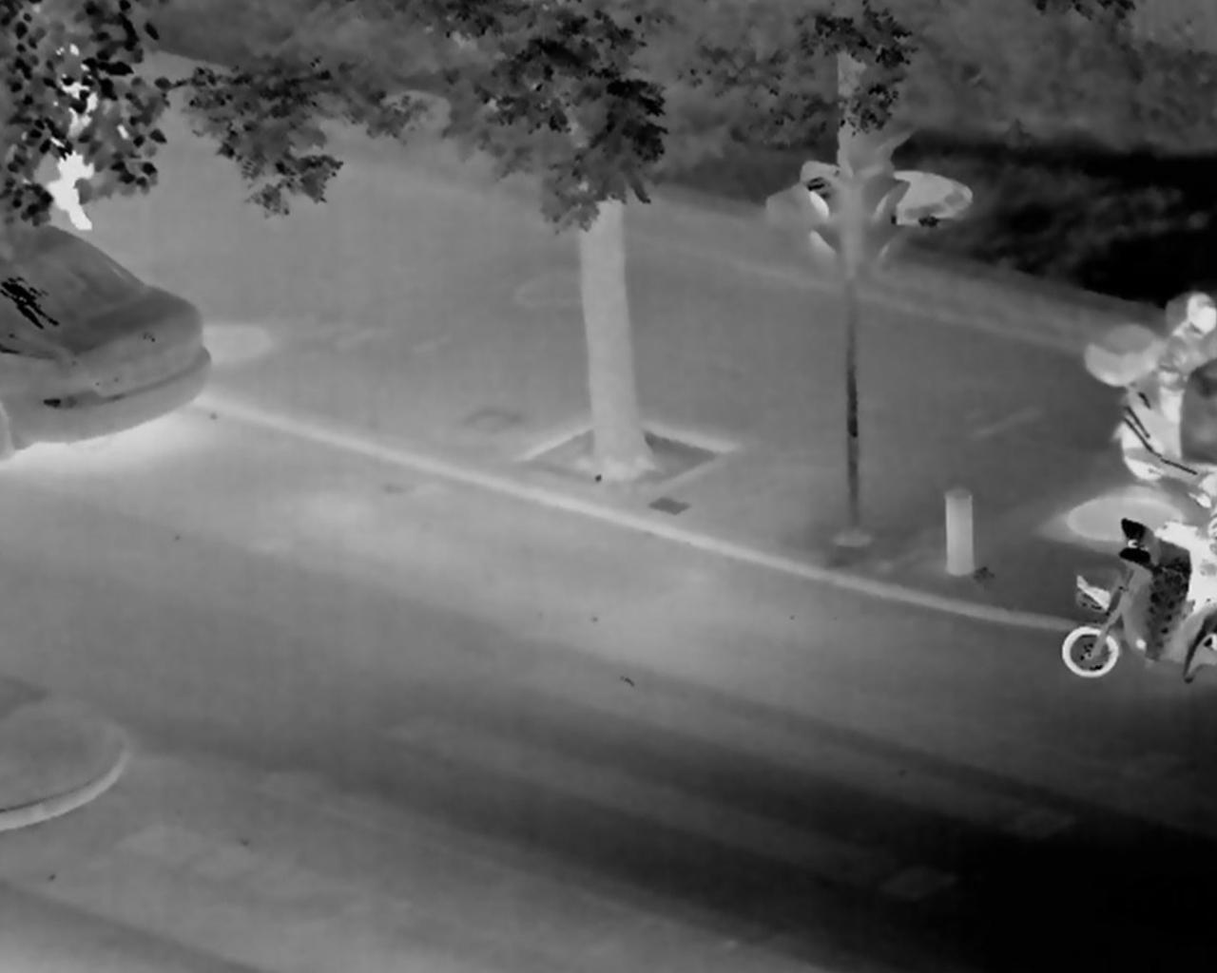person: (1151, 291, 1217, 478), (1171, 486, 1217, 636)
